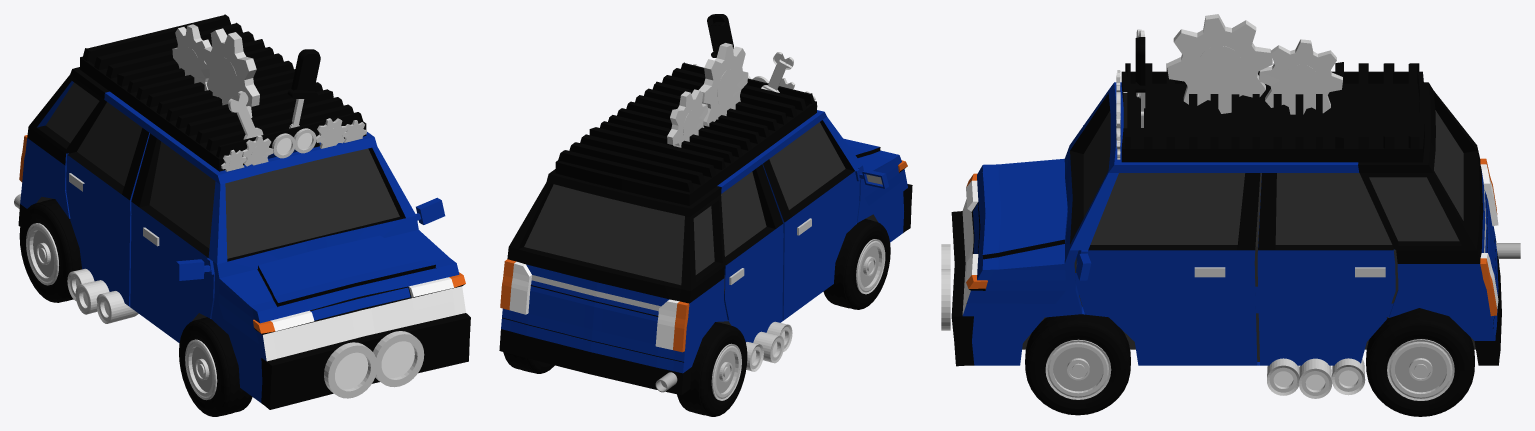
Rendered from CR-CAR-8A.fbx.
3 renders of one model, left to right at view 1: azimuth 30°, elevation 25°; view 2: azimuth 150°, elevation 25°; view 3: azimuth 270°, elevation 25°, orthographic. The views are drawn at different scales.
Parts seen in each view (by area): view 1: BODY.001, WHEEL.001, WHEEL.004, SETTING, Curve.001; view 2: BODY.001, WHEEL.004, WHEEL.001, SETTING, Curve.001, WHEEL.002; view 3: BODY.001, SETTING, WHEEL.002, WHEEL.003, Curve.001.
Part boxes in pixels (box(x1,y1,x2,y2)): BODY.001: box(18, 14, 470, 409); WHEEL.001: box(179, 317, 252, 416); WHEEL.004: box(19, 199, 81, 302); SETTING: box(172, 24, 259, 117); Curve.001: box(228, 49, 320, 139); BODY.001: box(499, 62, 912, 395); WHEEL.004: box(677, 322, 747, 416); WHEEL.001: box(823, 219, 890, 309); SETTING: box(667, 43, 748, 147); Curve.001: box(707, 14, 793, 92); WHEEL.002: box(503, 352, 554, 373); BODY.001: box(941, 62, 1501, 398); SETTING: box(1167, 14, 1342, 114); WHEEL.002: box(1366, 308, 1474, 416); WHEEL.003: box(1025, 314, 1130, 415); Curve.001: box(1135, 29, 1145, 127).
Bounding box in the file's own units: 131 × 147 × 228.
